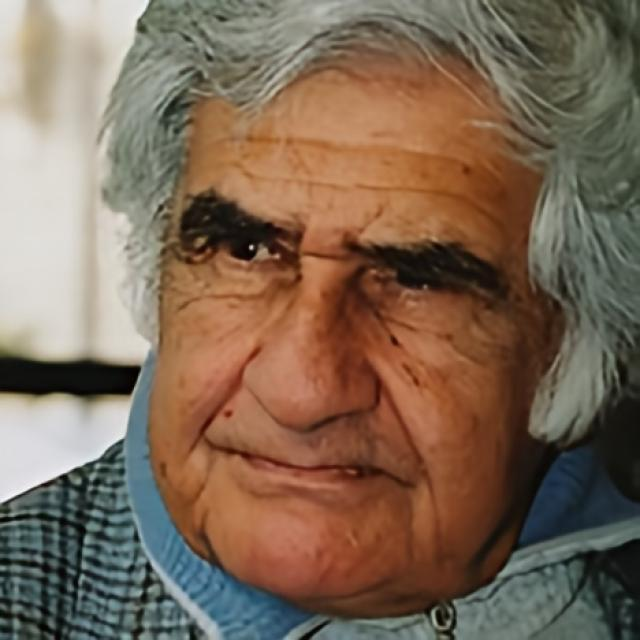anger: (146, 42, 547, 616)
